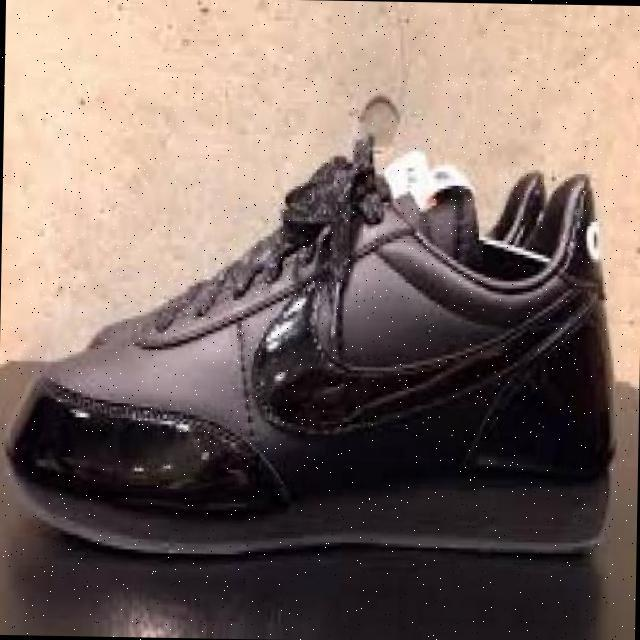Nike: (243, 277, 579, 444)
